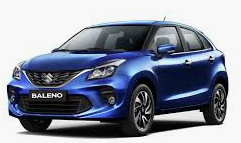car: (7, 20, 228, 136)
